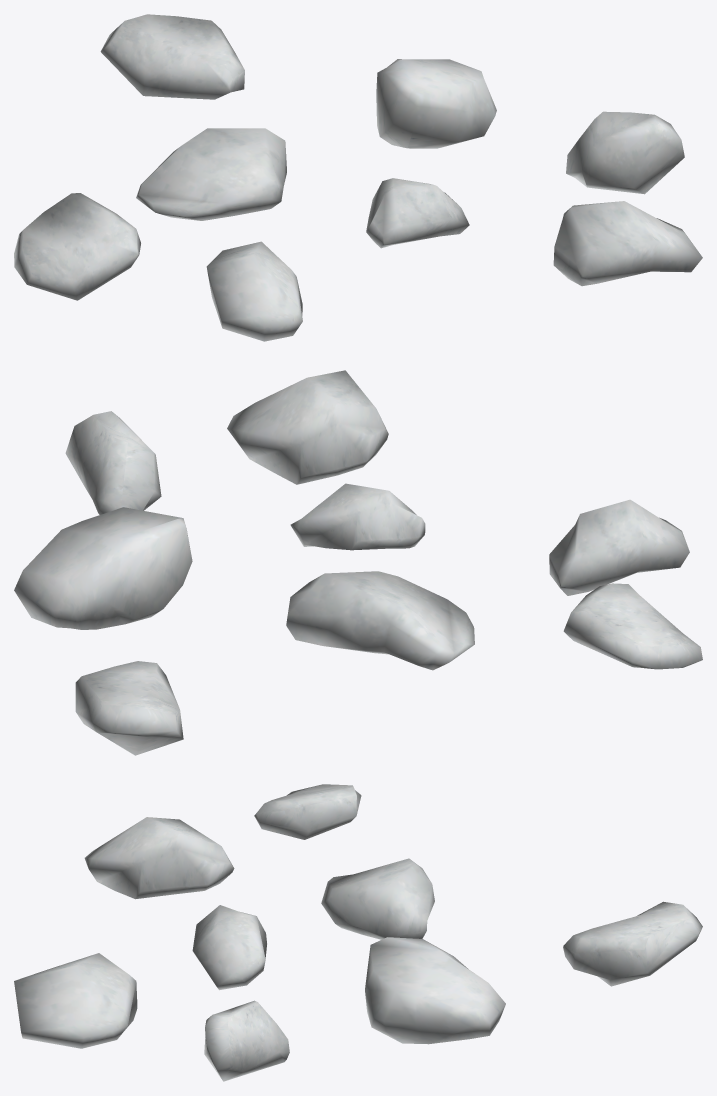
Rendered from Snowpile04.FBX.
3 renders of one model, top to bottom at view 1: azimuth 30°, elevation 25°; view 2: azimuth 150°, elevation 25°; view 3: azimuth 270°, elevation 25°, orthographic. The views are drawn at different scales.
Parts seen in each view (by area): view 1: Snowpile04; view 2: Snowpile04; view 3: Snowpile04.
Part boxes in pixels (x1,y1,x2,y2): Snowpile04: (14,14,702,341); Snowpile04: (14,370,702,755); Snowpile04: (14,784,702,1081).
Size of the model in its own units: 541 by 72.81 by 566.
